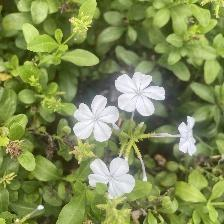chitrak: (114, 69, 168, 118), (88, 154, 139, 203), (71, 97, 120, 146), (179, 114, 199, 158)
